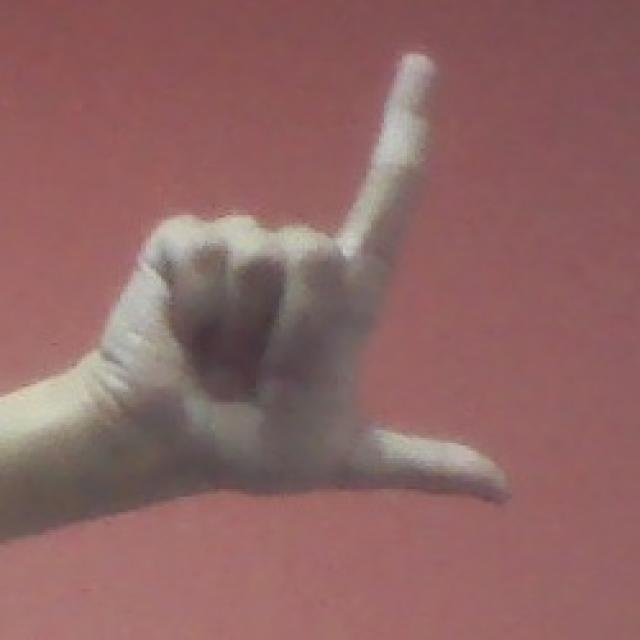Alphabet-L: (132, 54, 513, 506)
